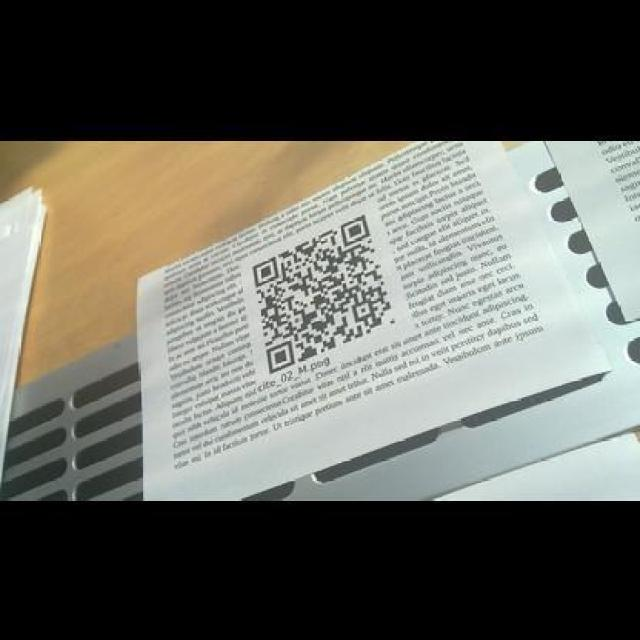QRCode: (247, 205, 405, 379)
